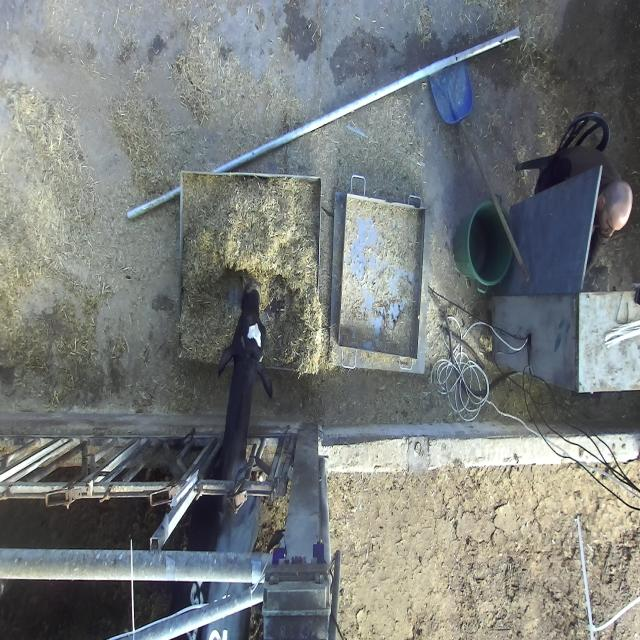cow: (218, 289, 274, 397)
